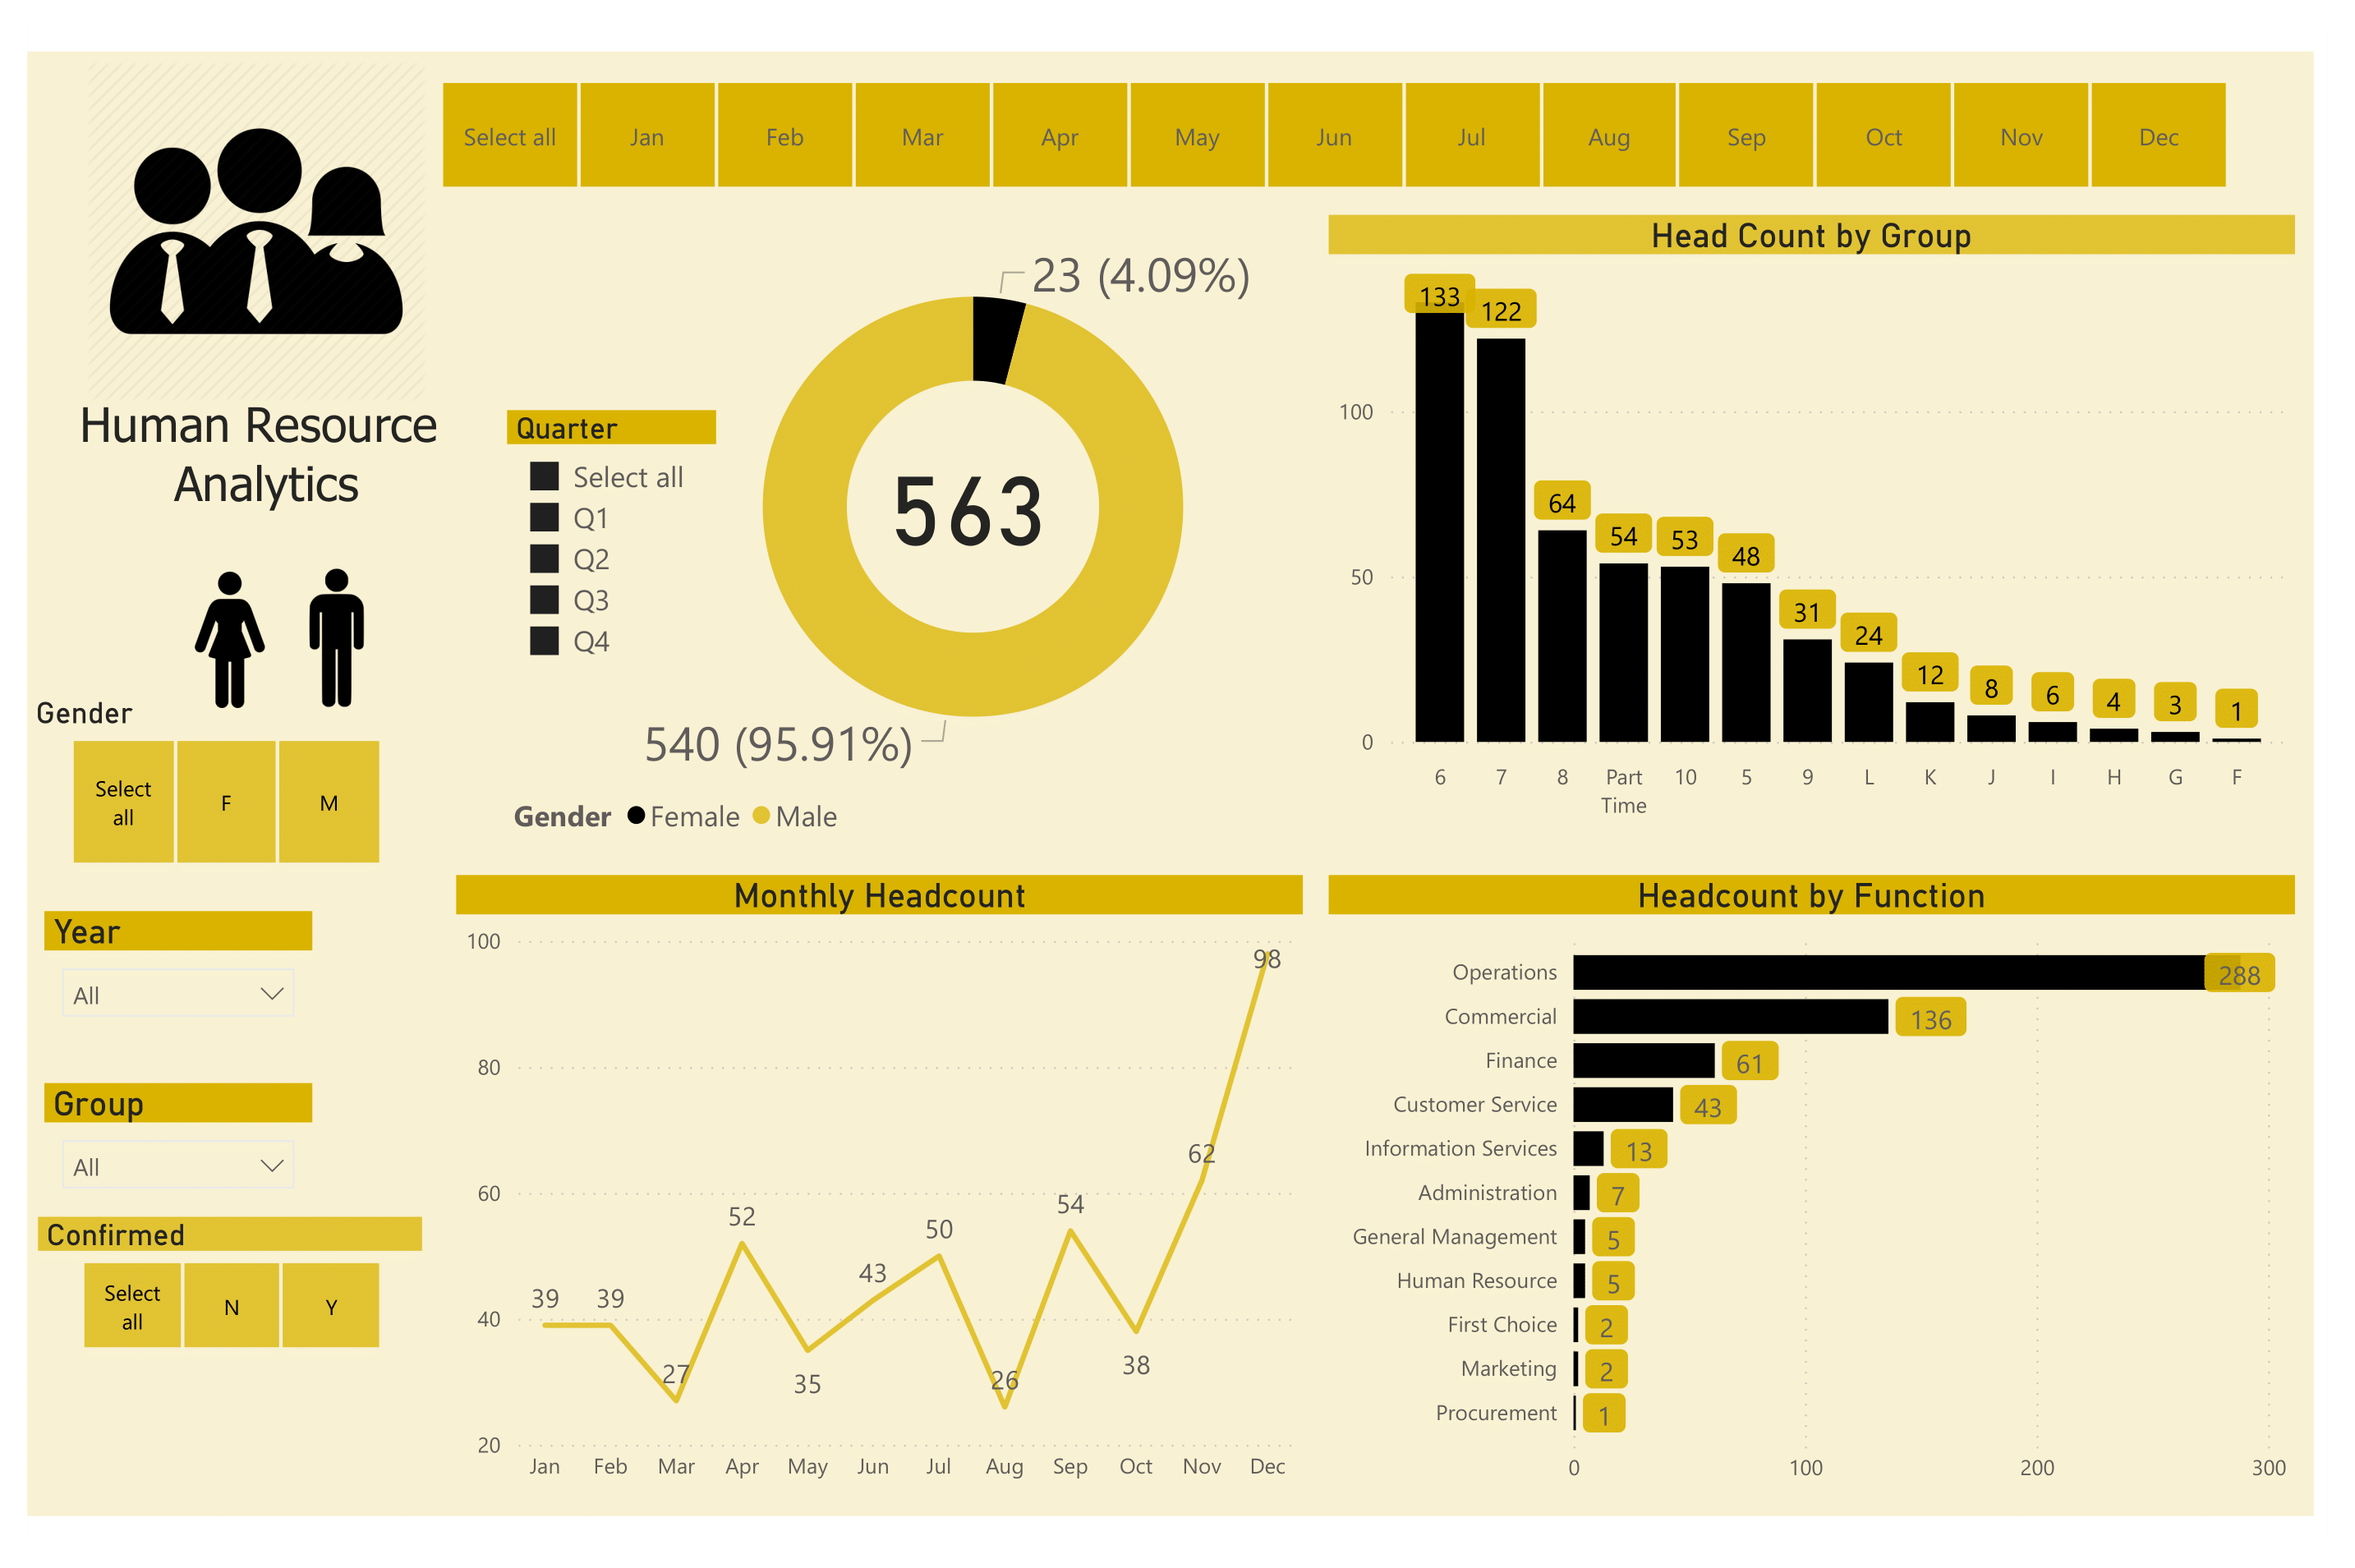

What the dashboard file says about the page in this screenshot:
{"tool":"powerbi","page":{"name":"Page 1","canvas":[1280,820],"ordinal":0},"visuals":[{"type":"donutChart","fields":{"Category":["hr gender.Gender","hr employee.AppointmentDate.Variation.Date Hierarchy.Month"],"Y":["CountNonNull(hr employee.EmployeeID)"]},"box":[267.9,94.3,524.1,354.5],"z":0,"group":"g1"},{"type":"columnChart","title":"Head Count by Group","fields":{"Category":["hr employee.Group"],"Y":["CountNonNull(hr employee.EmployeeID)"]},"box":[728.5,91.5,540.8,347],"z":0},{"type":"group","id":"g1","title":"Group 1","box":[267.9,94.3,524.1,354.5],"z":1000},{"type":"slicer","title":"Quarter","fields":{"Values":["hr employee.Quarter"]},"box":[269,201.4,117.2,158.6],"z":2000},{"type":"card","fields":{"Values":["CountNonNull(hr employee.EmployeeID)"]},"box":[473.4,217.1,106.2,67.6],"z":2500,"group":"g1"},{"type":"lineChart","title":"Monthly Headcount","fields":{"Y":["CountNonNull(hr employee.EmployeeID)"],"Category":["hr employee.Month"]},"box":[240,460.7,474.5,350.3],"z":3000},{"type":"barChart","title":"Headcount by Function","fields":{"Y":["CountNonNull(hr employee.EmployeeID)"],"Category":["hr department.Department"]},"box":[728.3,460.7,540.7,350.9],"z":4000},{"type":"image","box":[16.6,0,223.4,200.9],"z":5000},{"type":"textbox","box":[0,186.6,267.4,83.2],"z":6000},{"type":"image","box":[139.1,266.4,67.6,124.1],"z":7000},{"type":"image","box":[70.6,249.6,85.5,158.6],"z":8000},{"type":"slicer","title":"Gender","fields":{"Values":["hr gender.GenderCode"]},"box":[0,360,220.7,100.7],"z":9000},{"type":"slicer","title":"Year","fields":{"Values":["hr employee.Year"]},"box":[9.7,481.4,150.3,74.5],"z":10000},{"type":"slicer","title":"Group","fields":{"Values":["hr employee.Group"]},"box":[9.7,577.9,150.3,74.5],"z":11000},{"type":"slicer","title":"Confirmed","fields":{"Values":["hr employee.Confirmed"]},"box":[5.5,652.4,215.2,80],"z":12000},{"type":"slicer","title":"Month","fields":{"Values":["hr employee.Month"]},"box":[206.8,10.7,1048.2,72.5],"z":13000}]}

Visuals, with their boxes on the page's 1280x820 design canvas (x1, y1, x2, y2). These are canvas units, not pixel positions in the 2355x1568 screenshot, which may show the page scaled, cropped or inside an application window:
donutChart - hr gender.Gender x hr employee.AppointmentDate.Variation.Date Hierarchy.Month: [left=268, top=94, right=792, bottom=449]
"Head Count by Group" columnChart: [left=728, top=92, right=1269, bottom=438]
"Group 1" group: [left=268, top=94, right=792, bottom=449]
"Quarter" slicer: [left=269, top=201, right=386, bottom=360]
card - CountNonNull(hr employee.EmployeeID): [left=473, top=217, right=580, bottom=285]
"Monthly Headcount" lineChart: [left=240, top=461, right=714, bottom=811]
"Headcount by Function" barChart: [left=728, top=461, right=1269, bottom=812]
image: [left=17, top=0, right=240, bottom=201]
textbox: [left=0, top=187, right=267, bottom=270]
image: [left=139, top=266, right=207, bottom=390]
image: [left=71, top=250, right=156, bottom=408]
"Gender" slicer: [left=0, top=360, right=221, bottom=461]
"Year" slicer: [left=10, top=481, right=160, bottom=556]
"Group" slicer: [left=10, top=578, right=160, bottom=652]
"Confirmed" slicer: [left=6, top=652, right=221, bottom=732]
"Month" slicer: [left=207, top=11, right=1255, bottom=83]
